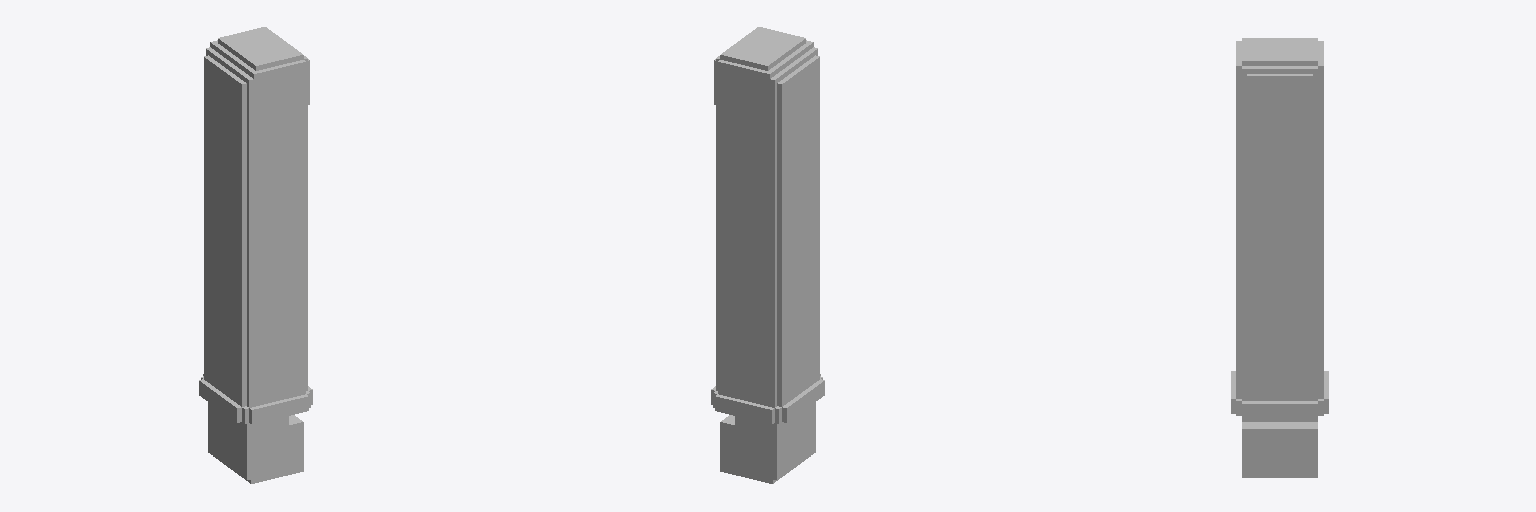
Rendered from Pravaya_ruka_sinyaya.obj.
3 views of the same model, side by side, from view 1: azimuth 30°, elevation 25°; view 2: azimuth 150°, elevation 25°; view 3: azimuth 270°, elevation 25° (orthographic).
Parts seen in each view (by area): view 1: object 1; view 2: object 1; view 3: object 1.
Part boxes in pixels (bbox=[...]): object 1: bbox=[199, 27, 312, 483]; object 1: bbox=[711, 27, 824, 483]; object 1: bbox=[1231, 38, 1328, 477].
Size of the model in its own units: 1.6 by 8.4 by 1.8.